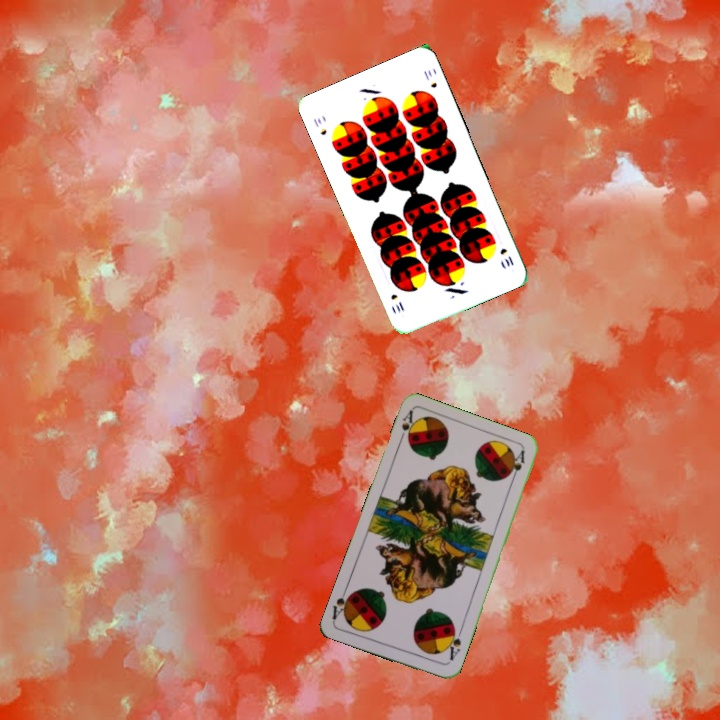S10: (496, 244, 516, 269), (309, 113, 329, 138)
SA: (395, 407, 419, 446), (442, 624, 465, 663)
